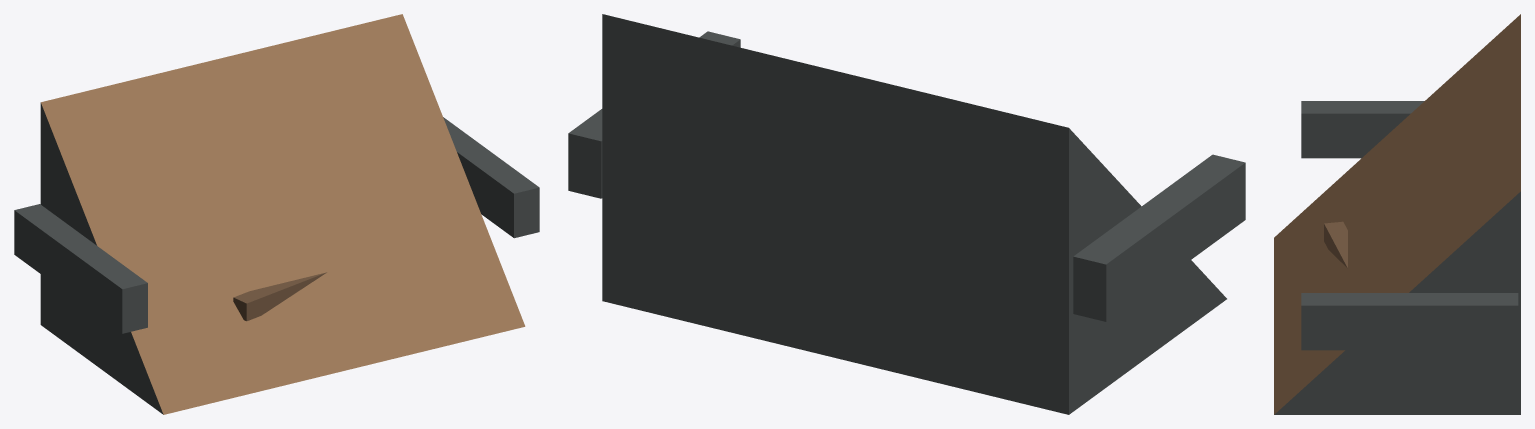
File: df_ramp_wide_a.glb
The picture shows the model from 3 angles, left to right: view 1: azimuth 30°, elevation 25°; view 2: azimuth 150°, elevation 25°; view 3: azimuth 270°, elevation 25°; orthographic projection. The views are drawn at different scales.
Parts seen in each view (by area): view 1: slope, left_lip, right_lip, root; view 2: slope, left_lip, right_lip; view 3: slope, right_lip, left_lip, root.
Part boxes in pixels (left/top/right/bottom): slope: left=40, top=14, right=525, bottom=414; left_lip: left=14, top=204, right=147, bottom=333; right_lip: left=443, top=117, right=539, bottom=238; root: left=233, top=272, right=326, bottom=321; slope: left=602, top=14, right=1226, bottom=414; left_lip: left=1073, top=154, right=1245, bottom=321; right_lip: left=568, top=31, right=740, bottom=198; slope: left=1274, top=14, right=1520, bottom=414; right_lip: left=1301, top=293, right=1518, bottom=350; left_lip: left=1301, top=101, right=1424, bottom=158; root: left=1324, top=221, right=1347, bottom=268.
Bounding box in the file's own units: 1.96 × 1 × 1.
